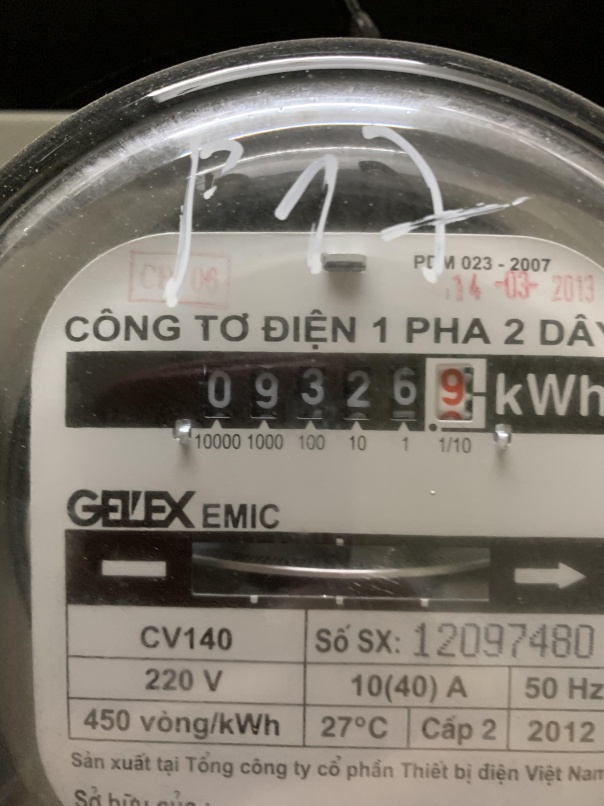counter: (65, 351, 604, 435)
electricity_meter: (4, 42, 604, 806)
